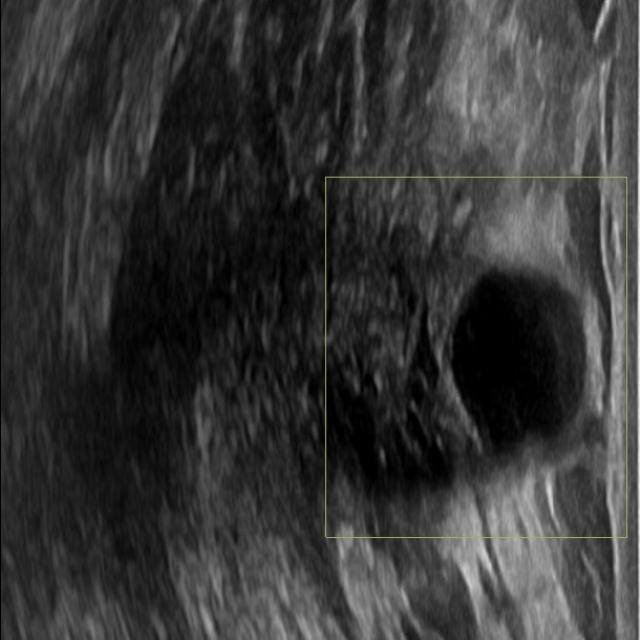Benign: (442, 267, 602, 461)
